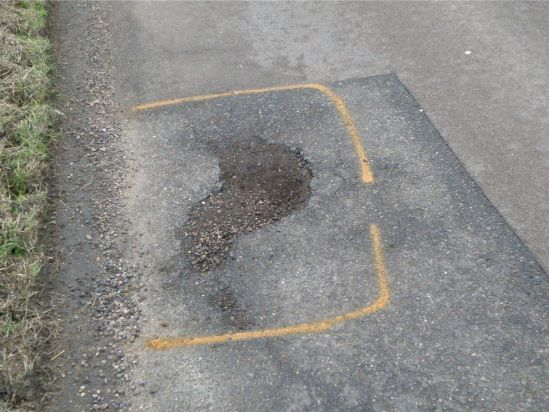pothole: (175, 129, 315, 273)
